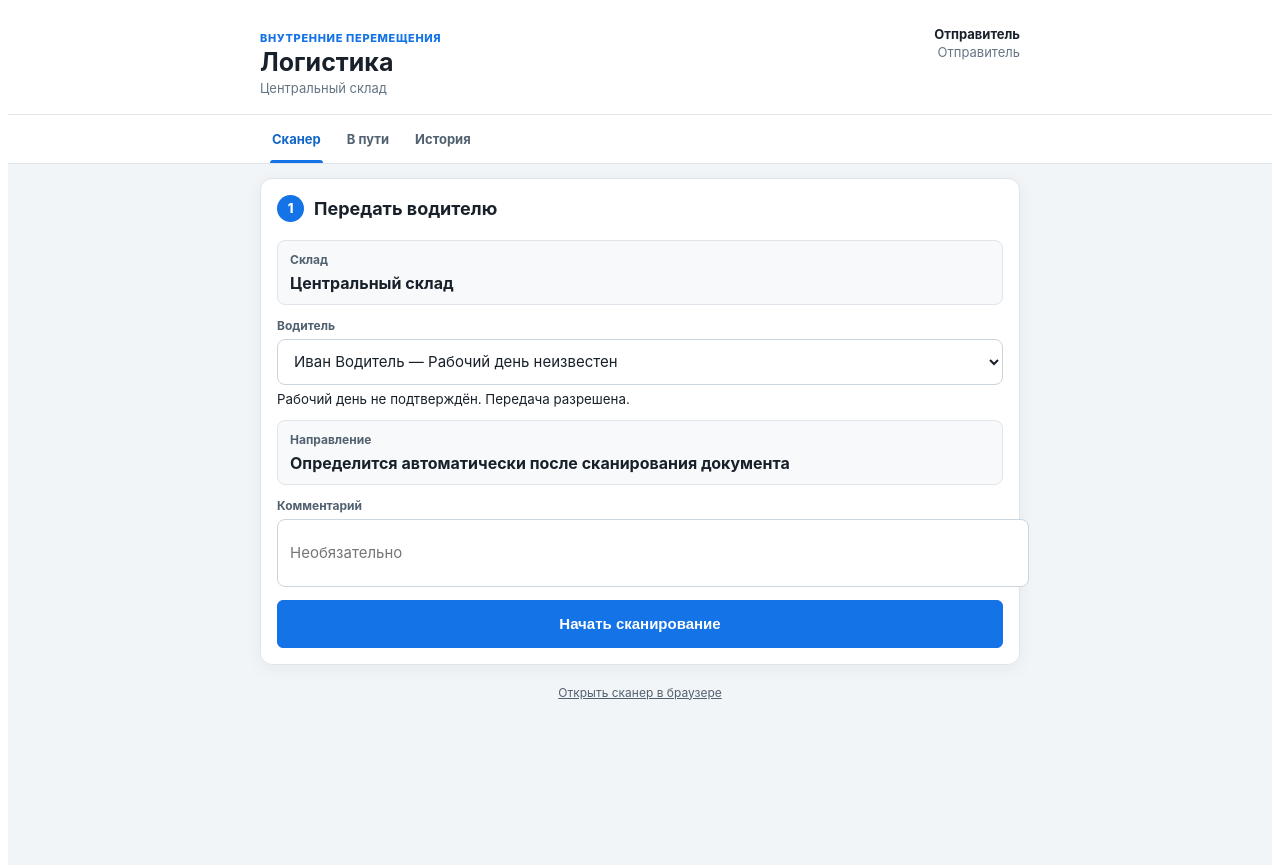
Test case: LogisticsWorkspace › сохраняет пакет сканов после ошибки следующего кода
Click the button "Начать сканирование": {"x": 640, "y": 624} [277, 600, 1003, 648]
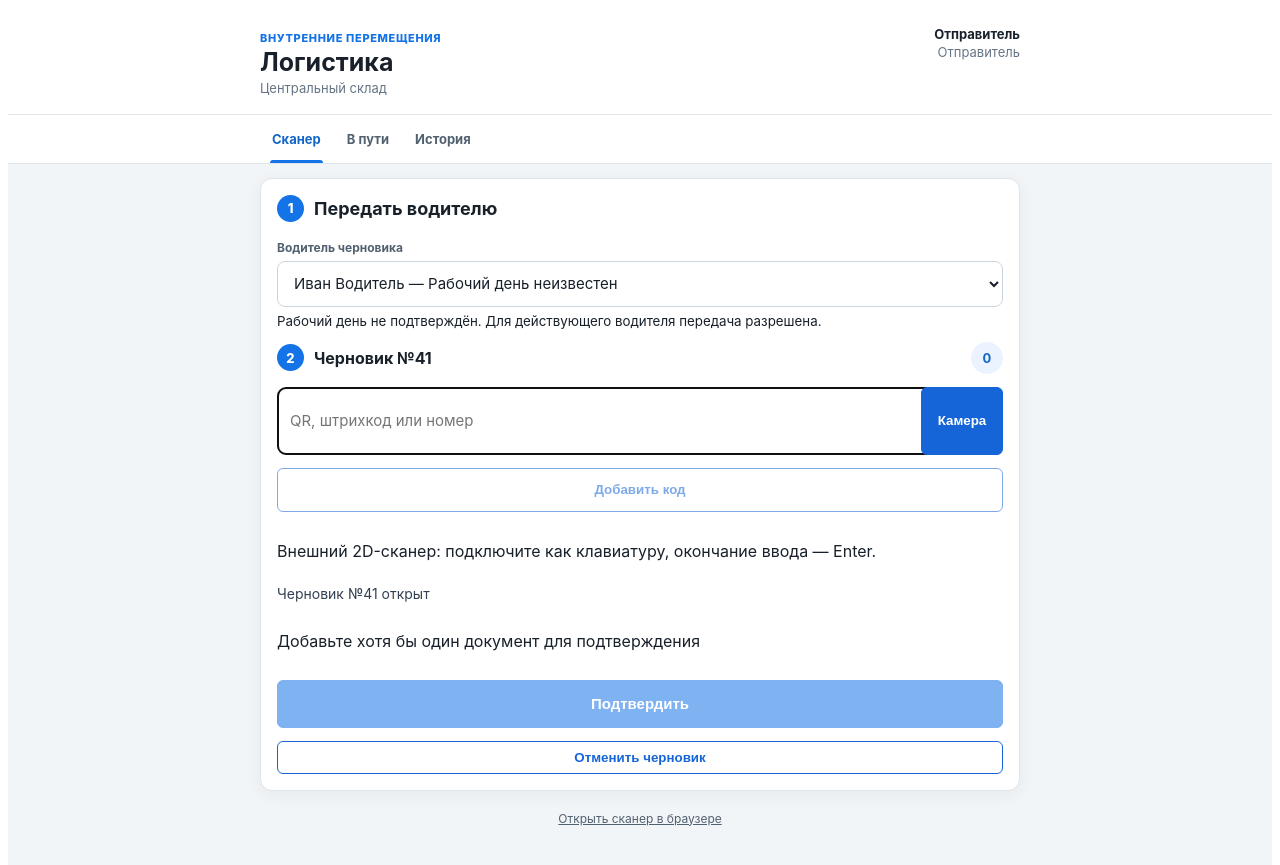
In the field with placeholder "QR, штрихкод или номер": {"x": 608, "y": 421} [277, 387, 939, 455], type "MMLOG1|rtu|51|216951"
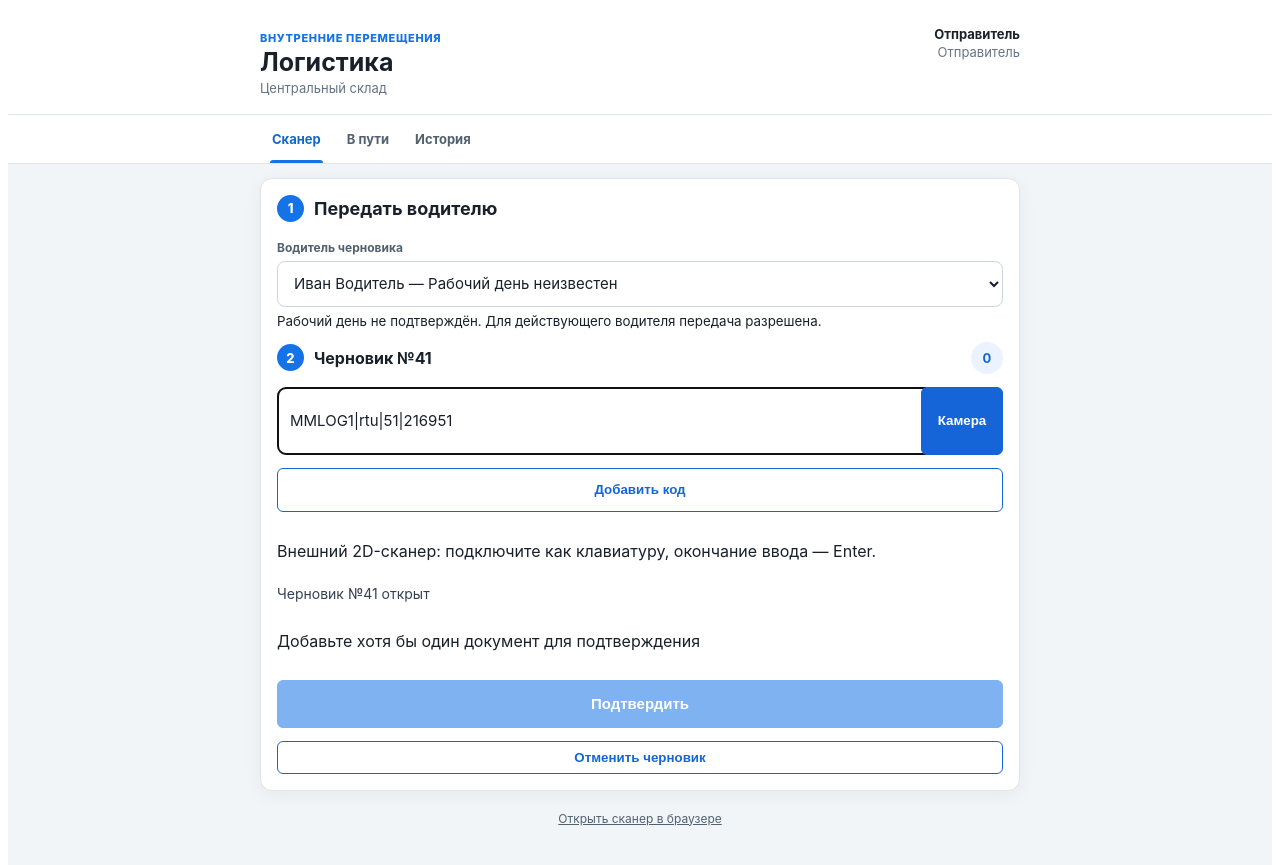
Click the button "Добавить код": {"x": 640, "y": 490} [277, 468, 1003, 512]
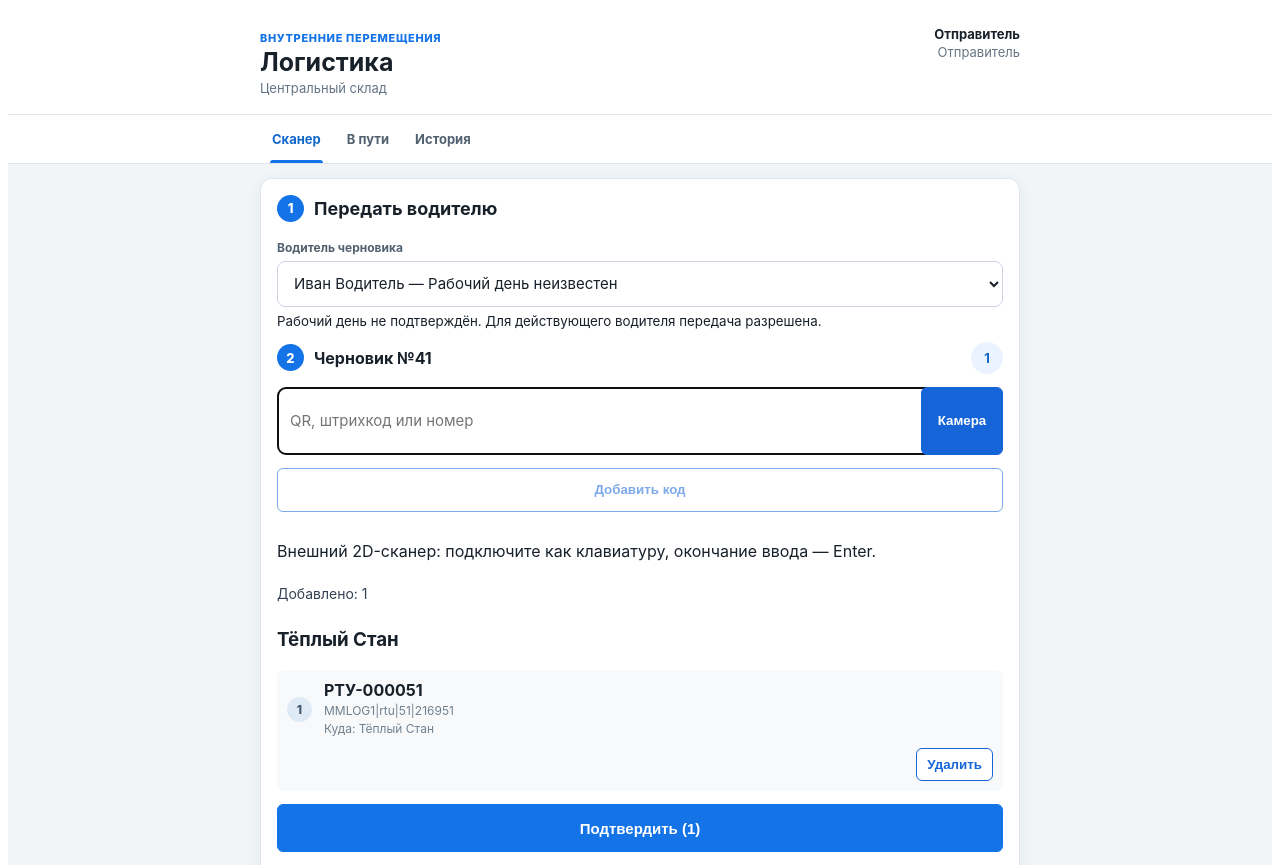
Expected: the text "РТУ-000051" is shown, [324, 680, 423, 700]
Expected: the text "Куда: Тёплый Стан" is shown, [324, 721, 434, 736]
Expected: the button "Подтвердить (1)" is enabled, [277, 804, 1003, 852]
In the field with placeholder "QR, штрихкод или номер": {"x": 608, "y": 421} [277, 387, 939, 455], type "BAD-CODE"
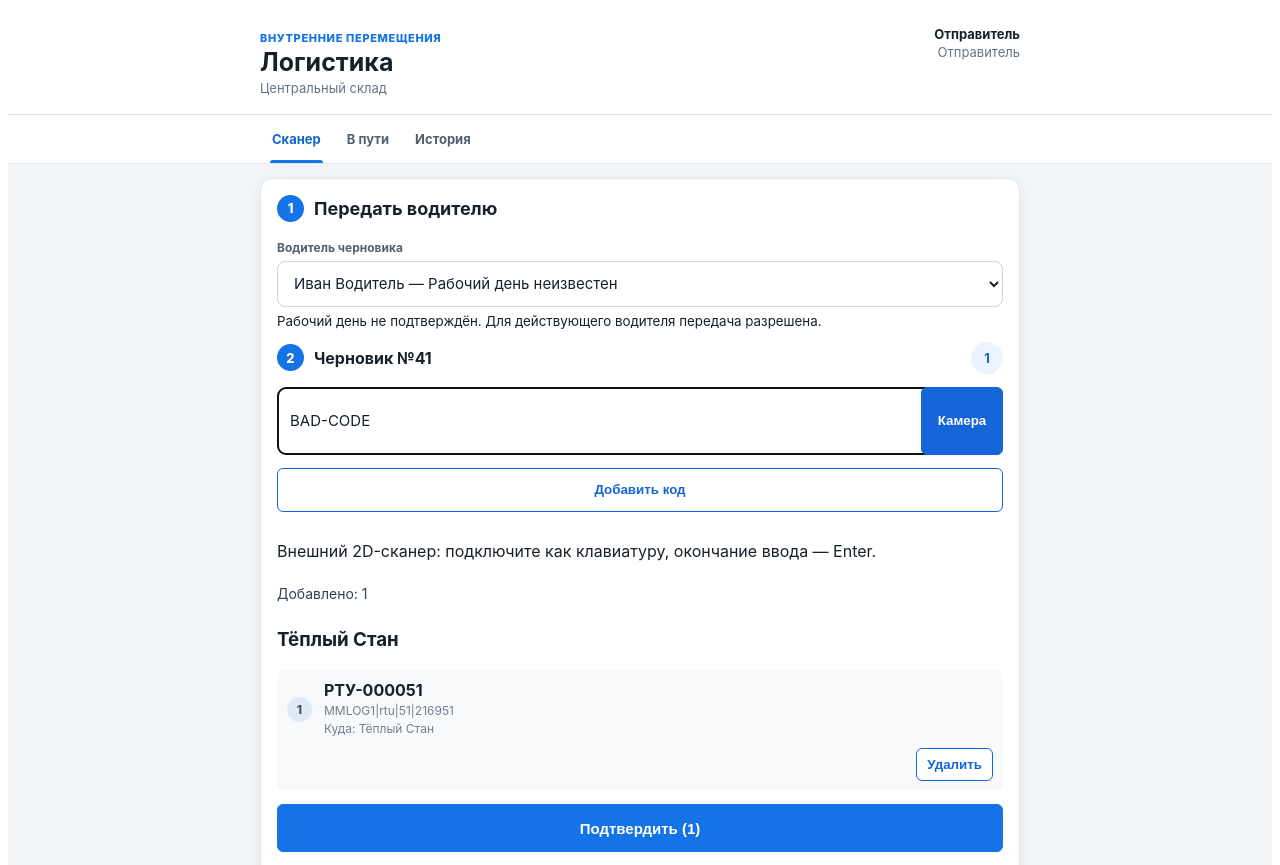
Click the button "Добавить код": {"x": 640, "y": 490} [277, 468, 1003, 512]
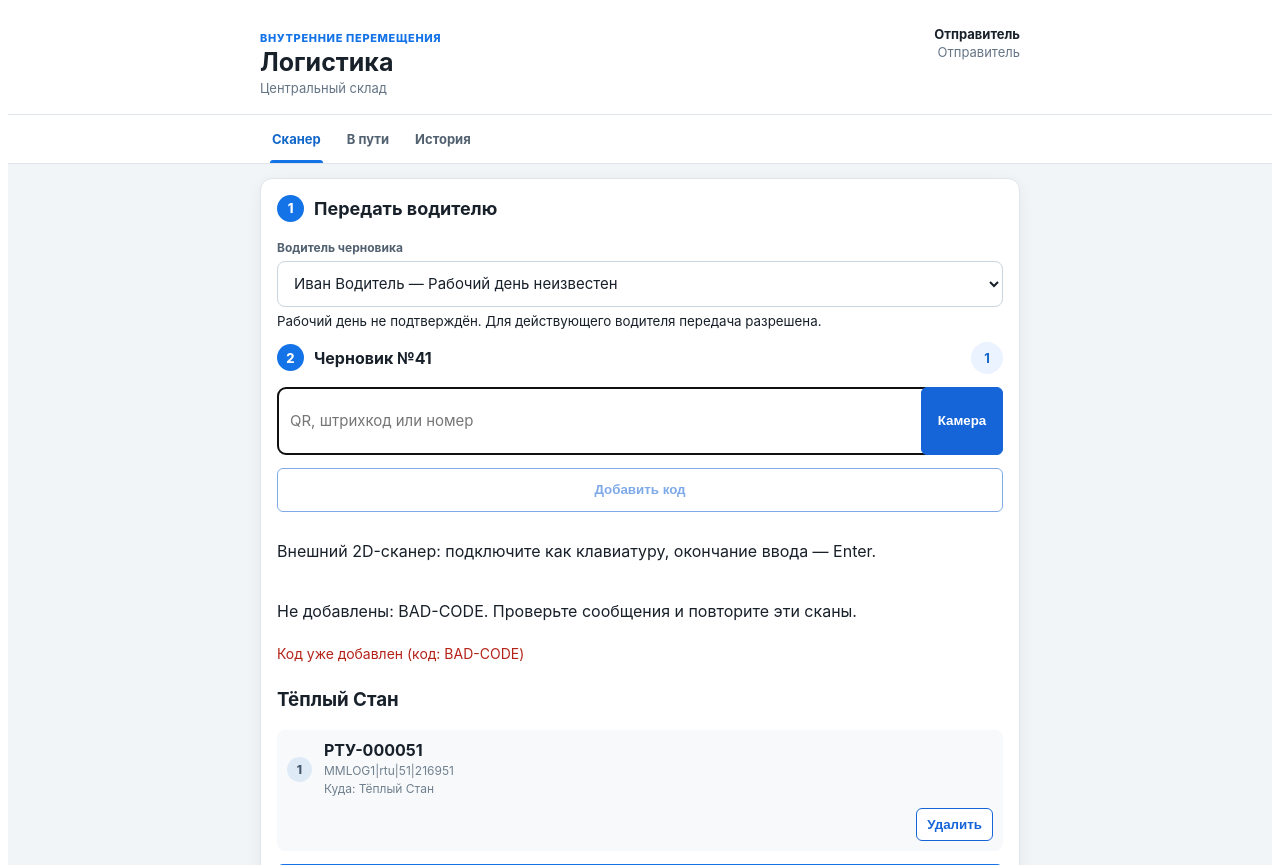
Expected: the text "РТУ-000051" is shown, [324, 740, 423, 760]
Expected: the text "Код уже добавлен (код: BAD-CODE)" is shown, [277, 645, 524, 662]
Expected: the field with placeholder "QR, штрихкод или номер" is empty, [277, 387, 939, 455]
